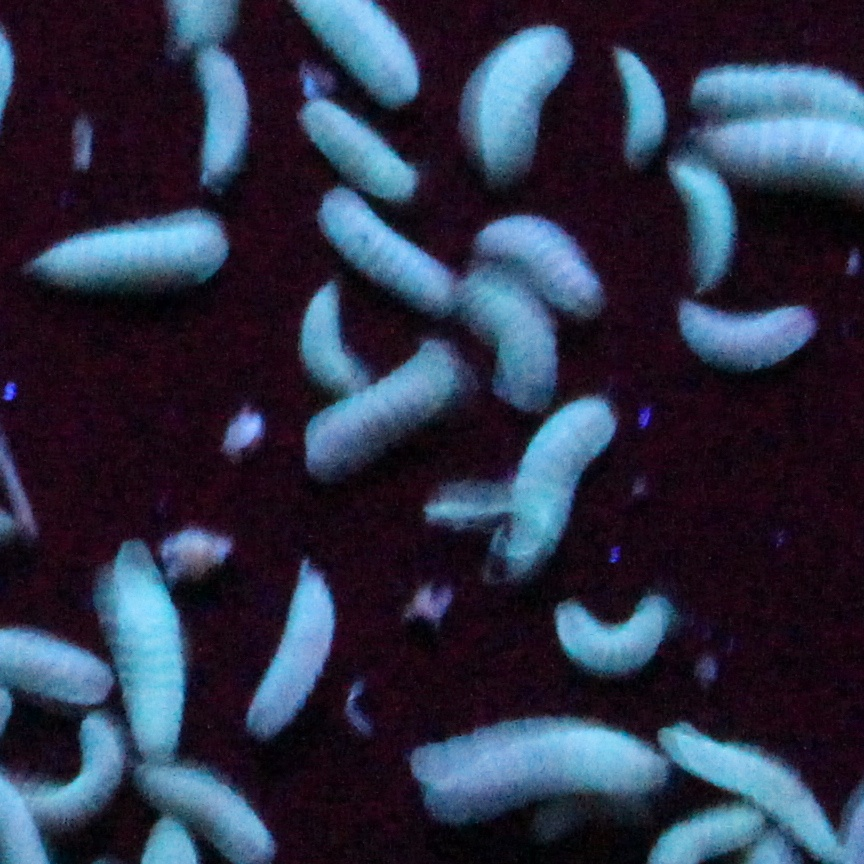larve: (659, 719, 851, 857), (411, 721, 665, 811), (494, 392, 619, 569), (309, 182, 463, 315), (96, 534, 188, 755), (303, 344, 455, 465), (251, 559, 336, 740), (473, 15, 569, 173), (28, 213, 234, 280), (457, 269, 553, 407), (471, 217, 609, 311), (301, 101, 421, 201), (555, 598, 673, 676), (669, 159, 736, 292), (196, 40, 255, 184), (684, 301, 811, 367), (298, 280, 367, 392), (611, 44, 667, 161)
